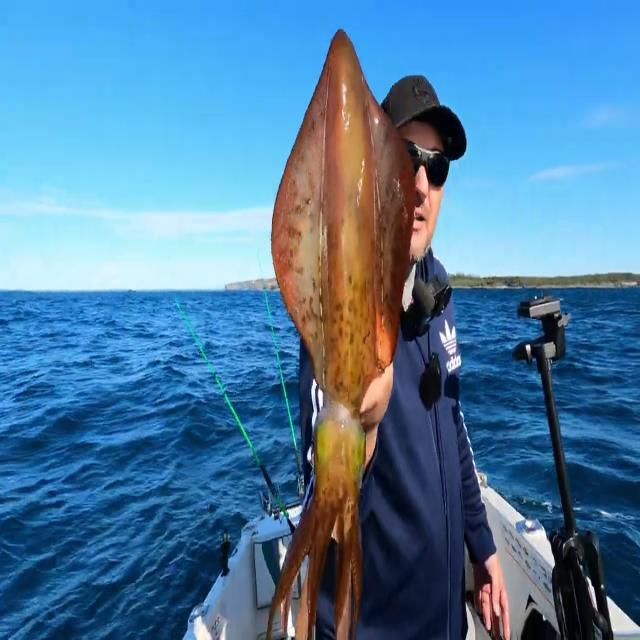squid: (268, 28, 417, 640)
